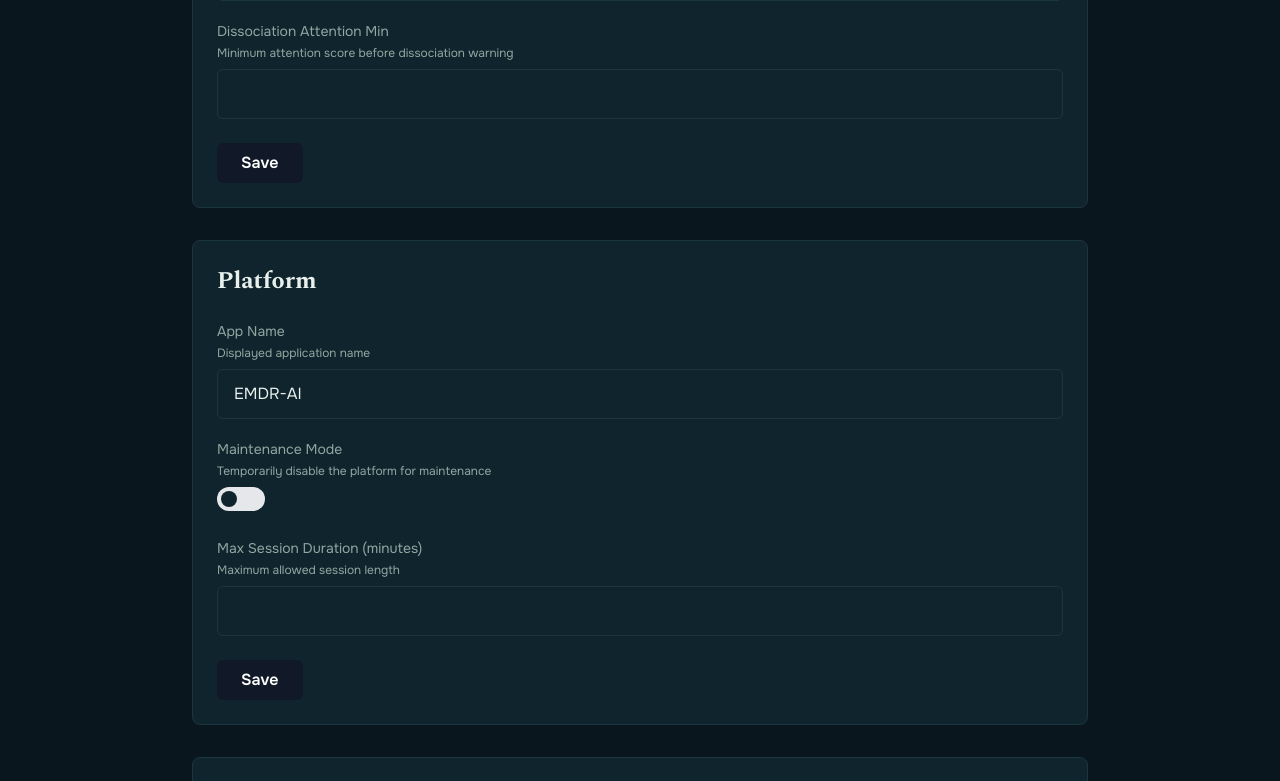
AdminSettingsPage (#150) › сохранение секции → updateSetting для каждого заполненного поля
(page scrolled)
Expected: the heading "Platform" is shown, 217,263 -> 317,299
Note: Меняем app_name и сохраняем секцию Platform (3-я кнопка Save)
Replace the text in the field showing "EMDR-AI" with "EMDR-X" at (640, 394), box 217,369 -> 1063,419
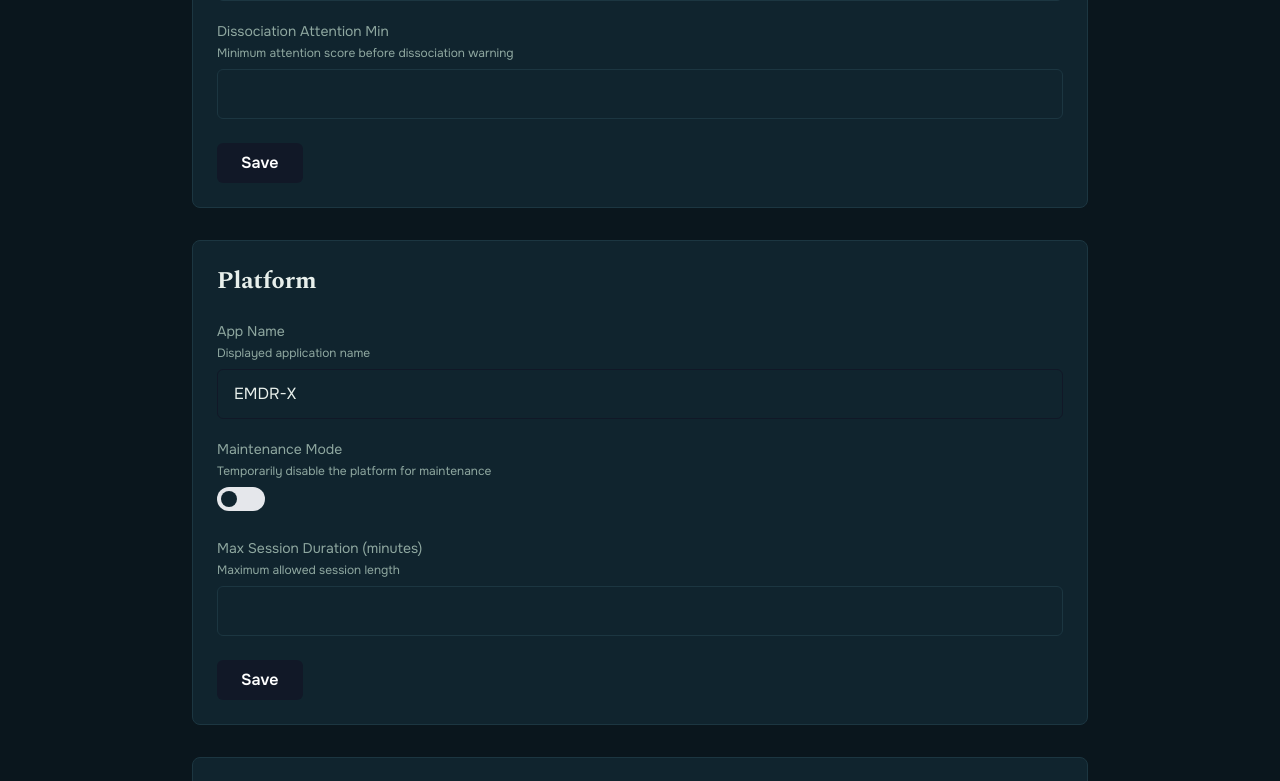
Click the button "Save" below "Maximum allowed session length" at (260, 680), box 217,660 -> 302,700
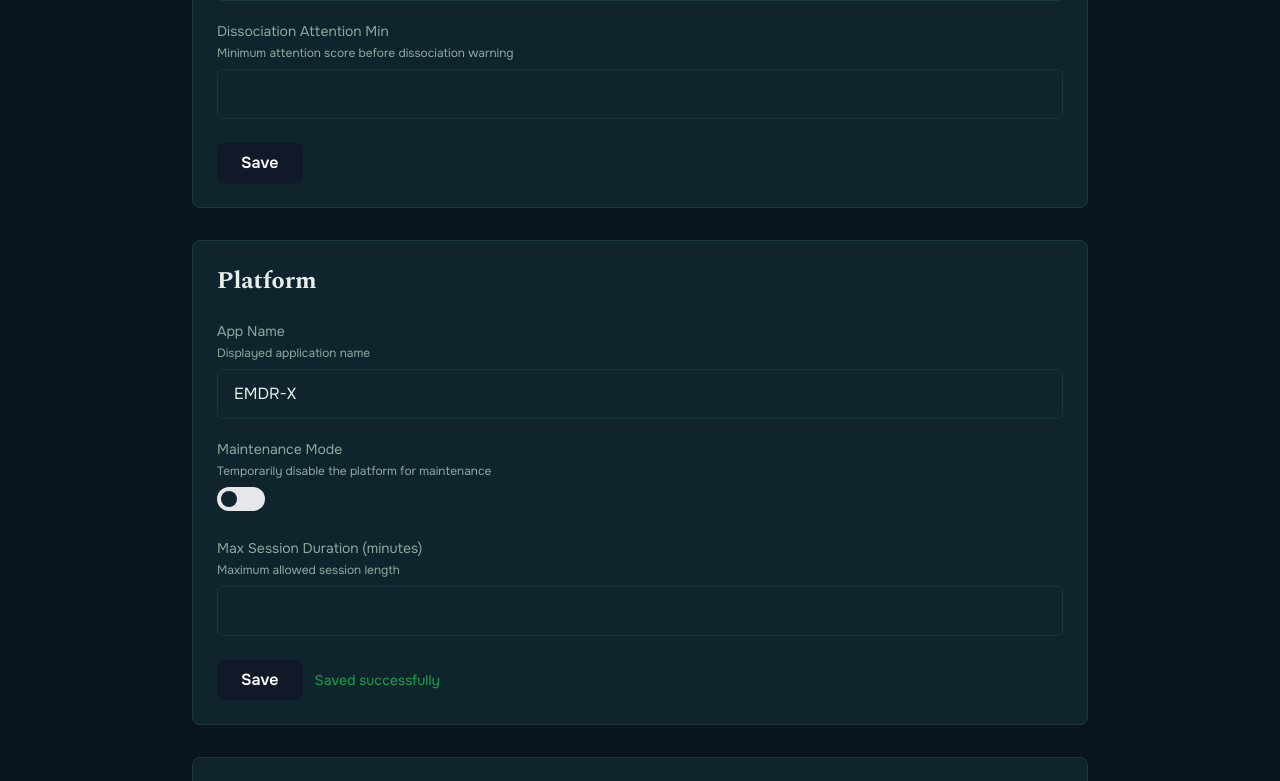
Expected: the text "Saved successfully" is shown, 314,670 -> 440,690
